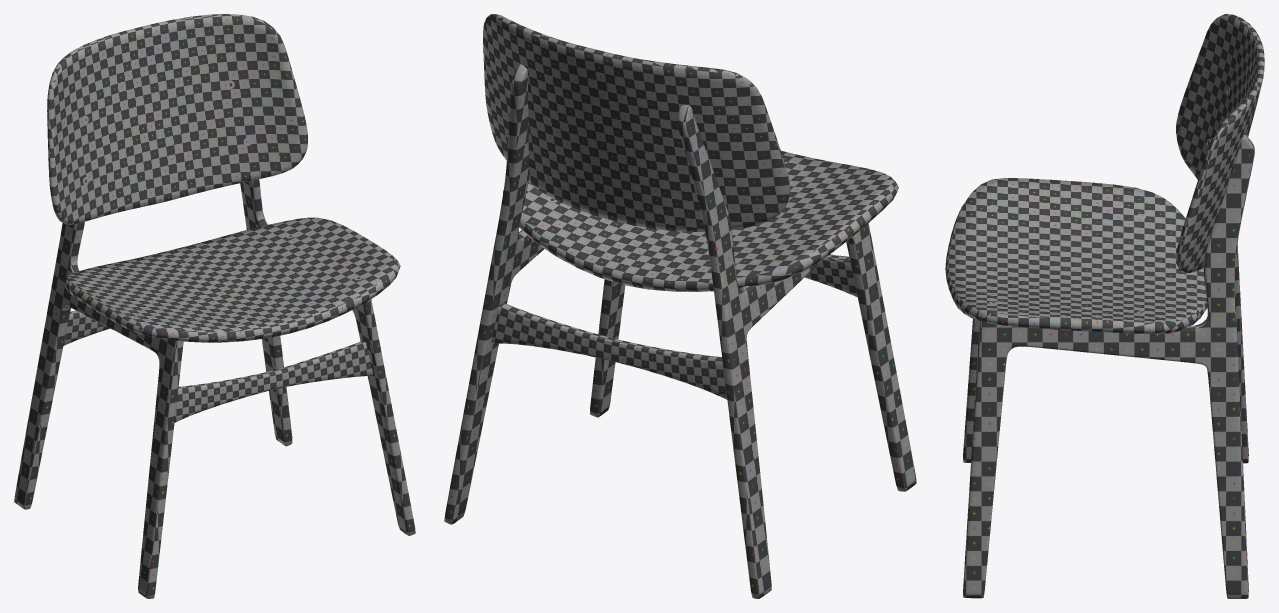
The model's file is chaise.glb.
3 renders of one model, left to right at view 1: azimuth 30°, elevation 25°; view 2: azimuth 150°, elevation 25°; view 3: azimuth 270°, elevation 25°, orthographic. The views are drawn at different scales.
Visible parts, largest first — view 1: Dossier.002, Siege.002, Pieds.006, Pied.Renfort.avant.002, Pied.Renfort.arriere.002; view 2: Dossier.002, Pieds.006, Siege.002, Pied.Renfort.arriere.002, Pied.Renfort.avant.002; view 3: Siege.002, Pieds.006, Dossier.002.
Boxes of the visible parts, left/top/right/bottom form: Dossier.002: left=47, top=14, right=307, bottom=224; Siege.002: left=64, top=217, right=400, bottom=342; Pieds.006: left=14, top=179, right=415, bottom=598; Pied.Renfort.avant.002: left=174, top=340, right=373, bottom=422; Pied.Renfort.arriere.002: left=63, top=310, right=109, bottom=345; Dossier.002: left=483, top=14, right=789, bottom=231; Pieds.006: left=444, top=64, right=916, bottom=598; Siege.002: left=503, top=150, right=898, bottom=291; Pied.Renfort.arriere.002: left=491, top=302, right=727, bottom=399; Pied.Renfort.avant.002: left=804, top=254, right=857, bottom=297; Siege.002: left=945, top=178, right=1207, bottom=333; Pieds.006: left=963, top=134, right=1254, bottom=598; Dossier.002: left=1176, top=14, right=1264, bottom=272.
Size of the model in its own units: 265 by 408 by 252.
2 materials, 1 textured.
